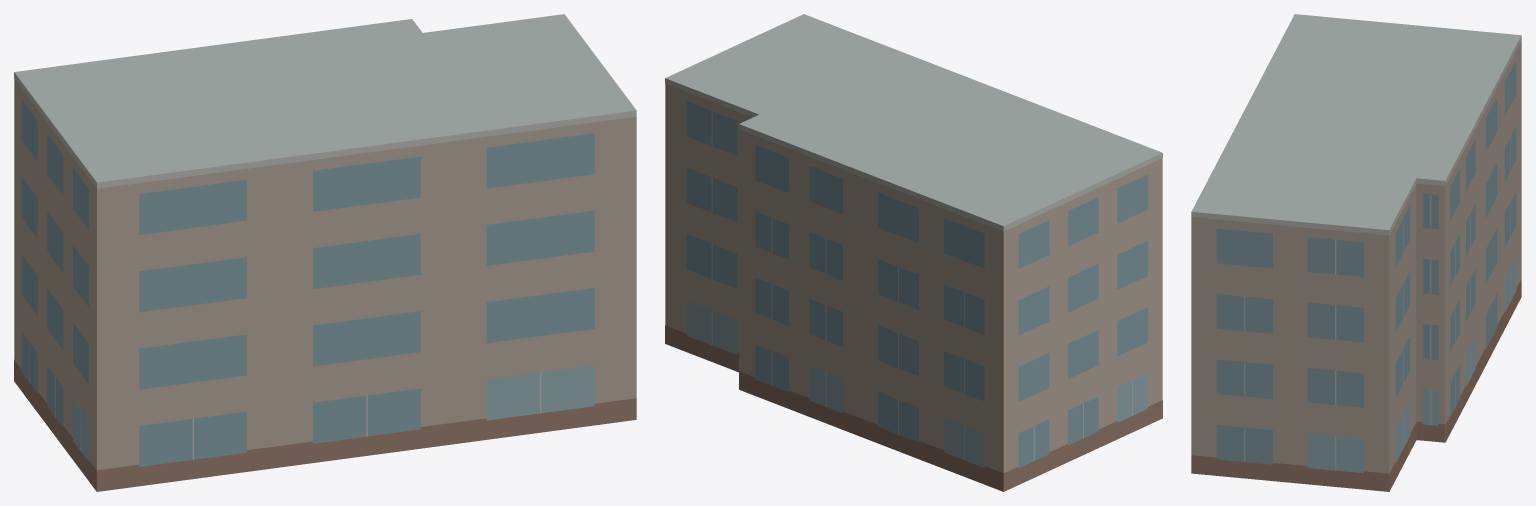
The model's file is residential-79400f57-73cc-45a9-9d72-23b931b35368.glb.
The picture shows the model from 3 angles, left to right: view 1: azimuth 30°, elevation 25°; view 2: azimuth 150°, elevation 25°; view 3: azimuth 270°, elevation 25°; orthographic projection. The views are drawn at different scales.
Parts seen in each view (by area): view 1: residential-79400f57-73cc-45a9-9d72-23b931b35368.tmp; view 2: residential-79400f57-73cc-45a9-9d72-23b931b35368.tmp; view 3: residential-79400f57-73cc-45a9-9d72-23b931b35368.tmp.
Boxes of the visible parts, x1=… form: residential-79400f57-73cc-45a9-9d72-23b931b35368.tmp: x1=14, y1=14, x2=636, y2=491; residential-79400f57-73cc-45a9-9d72-23b931b35368.tmp: x1=665, y1=14, x2=1162, y2=491; residential-79400f57-73cc-45a9-9d72-23b931b35368.tmp: x1=1191, y1=14, x2=1521, y2=491.
Size of the model in its own units: 21.62 by 12.2 by 13.96.
